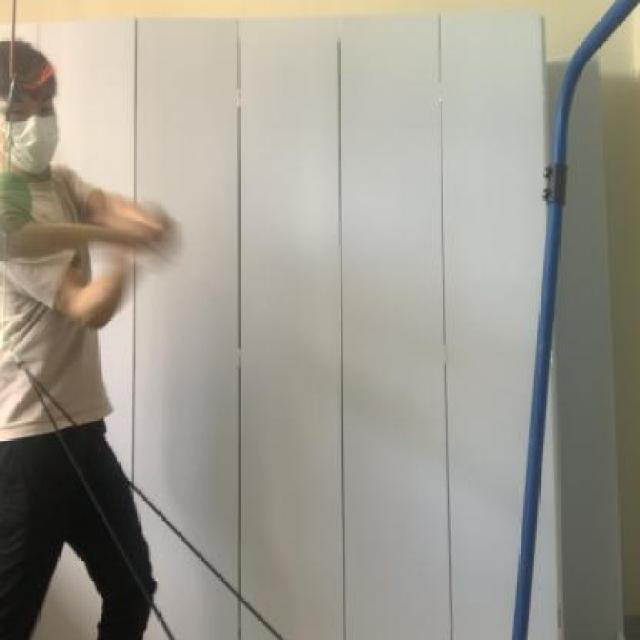baseball: (0, 164, 37, 247)
